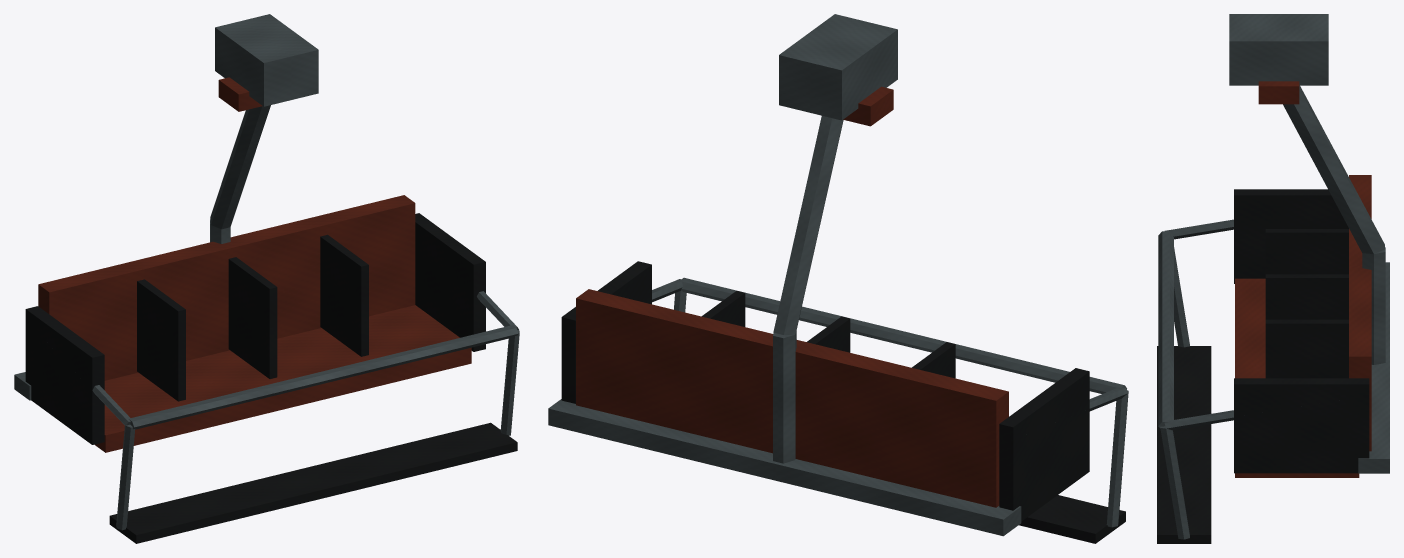
Rendered from chairlift-chair.glb.
3 renders of one model, left to right at view 1: azimuth 30°, elevation 25°; view 2: azimuth 150°, elevation 25°; view 3: azimuth 270°, elevation 25°, orthographic. The views are drawn at different scales.
Parts seen in each view (by area): view 1: chairlift-chair-chair-hanger.001, chairlift-chair-chair-hanger.002, chairlift-chair-chair-hanger; view 2: chairlift-chair-chair-hanger.001, chairlift-chair-chair-hanger, chairlift-chair-chair-hanger.002; view 3: chairlift-chair-chair-hanger.002, chairlift-chair-chair-hanger, chairlift-chair-chair-hanger.001.
Part boxes in pixels (x1,y1,x2,y2): chairlift-chair-chair-hanger.001: (38, 77, 471, 452); chairlift-chair-chair-hanger.002: (25, 213, 517, 543); chairlift-chair-chair-hanger: (14, 14, 519, 530); chairlift-chair-chair-hanger.001: (576, 86, 1008, 507); chairlift-chair-chair-hanger: (548, 14, 1128, 536); chairlift-chair-chair-hanger.002: (561, 261, 1125, 543); chairlift-chair-chair-hanger.002: (1157, 189, 1369, 543); chairlift-chair-chair-hanger: (1158, 14, 1389, 539); chairlift-chair-chair-hanger.001: (1235, 81, 1371, 477).
Bounding box in the file's own units: 2.6 × 2.6 × 1.3.
Materials: 3 (3 with a texture image).
